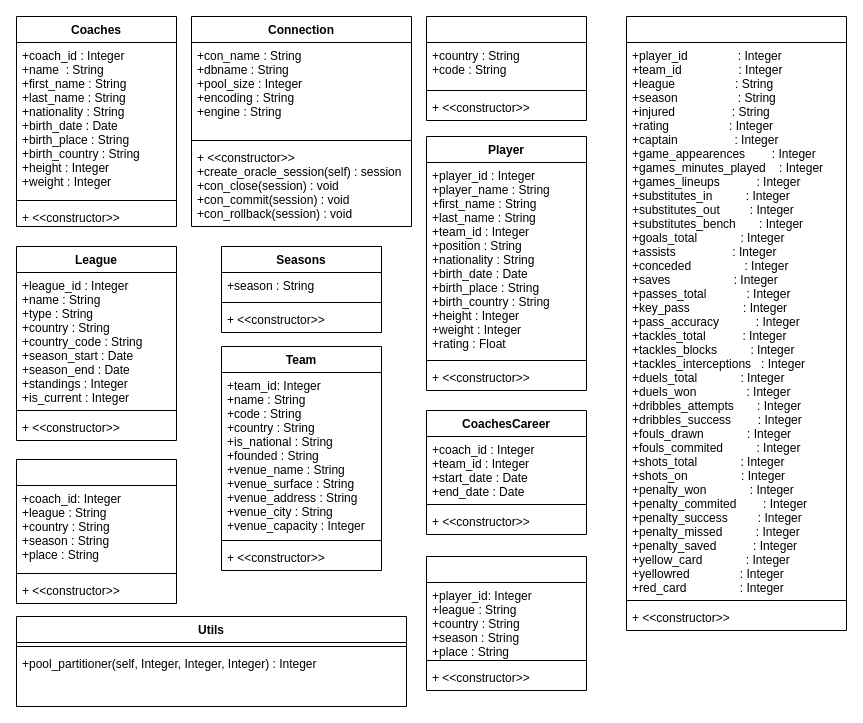
Some shapes in this 863 by 723 pixel diagram are drawn without their labels. Here are the shapes that lost their labels. From the top down, the box of each, then its label:
(426, 16, 586, 120): Countries
(626, 16, 846, 630): PlayerStats
(16, 458, 176, 604): TrophiesCoach
(426, 556, 586, 690): TrophiesPlayer
